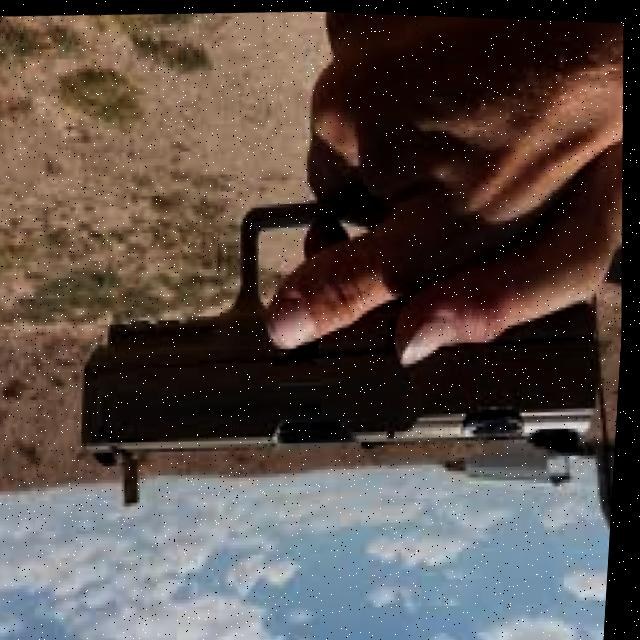pistol: (73, 177, 617, 521)
